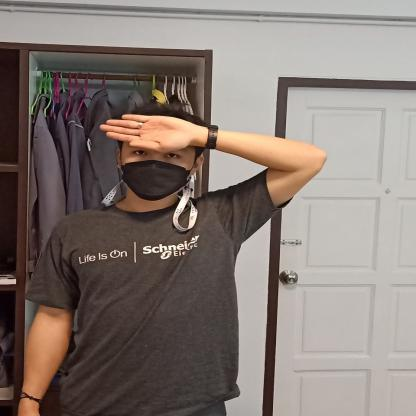Sick: (96, 106, 328, 197)
